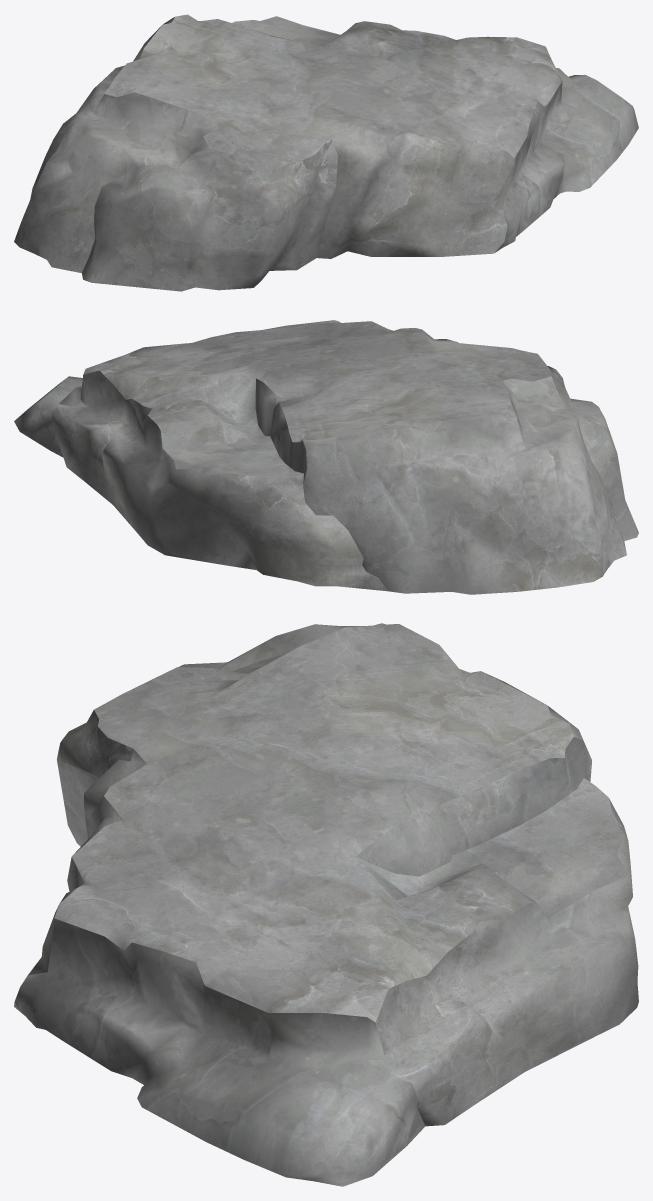
File: SM_Com_Roc_27AS.fbx
3 renders of one model, top to bottom at view 1: azimuth 30°, elevation 25°; view 2: azimuth 150°, elevation 25°; view 3: azimuth 270°, elevation 25°, orthographic. The views are drawn at different scales.
Visible parts, largest first — view 1: SM_Com_Roc_27AS.mo; view 2: SM_Com_Roc_27AS.mo; view 3: SM_Com_Roc_27AS.mo.
Part boxes in pixels (x1,y1,x2,y2): SM_Com_Roc_27AS.mo: [14, 14, 638, 291]; SM_Com_Roc_27AS.mo: [14, 320, 638, 594]; SM_Com_Roc_27AS.mo: [14, 623, 638, 1186].
Size of the model in its own units: 5.91 by 1.32 by 3.63.
